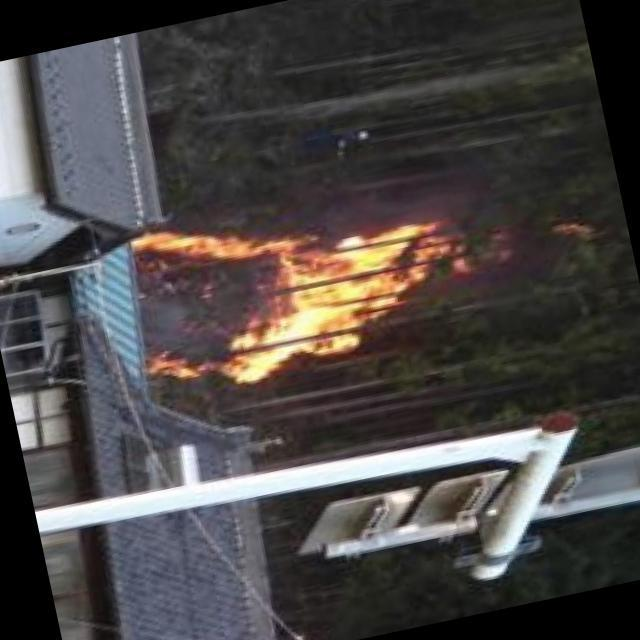Fire: (125, 184, 484, 404)
